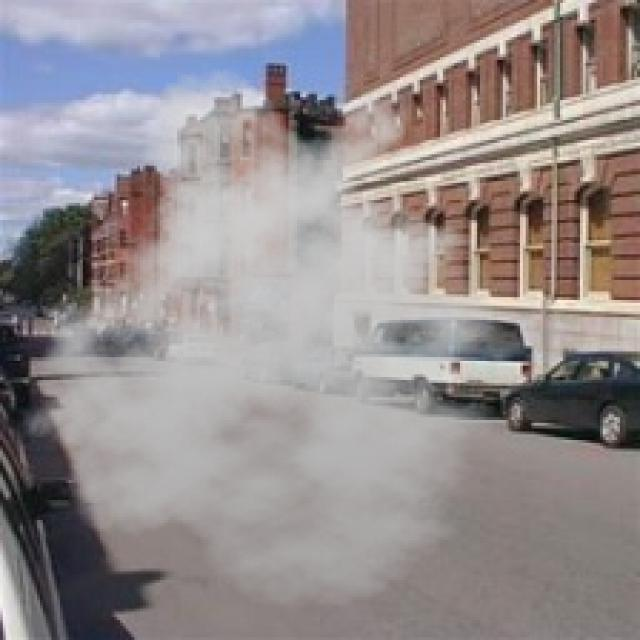Smoke: (8, 66, 554, 608)
